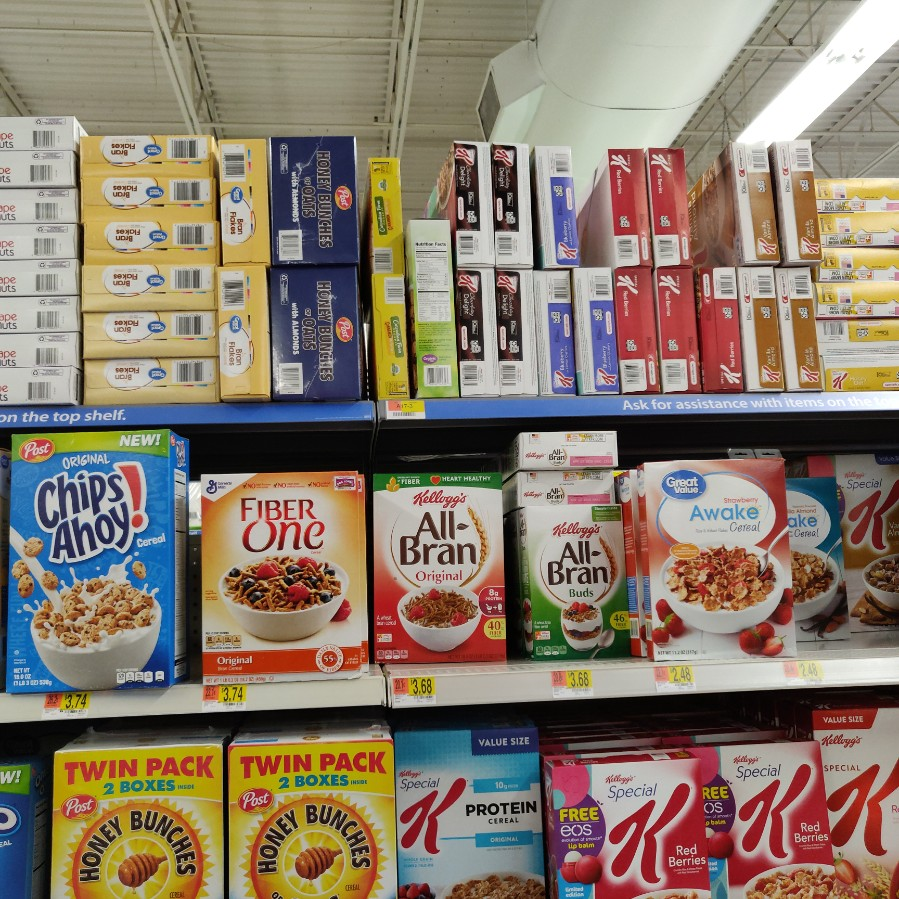Chips Ahoys-565717529: (10, 430, 178, 689)
